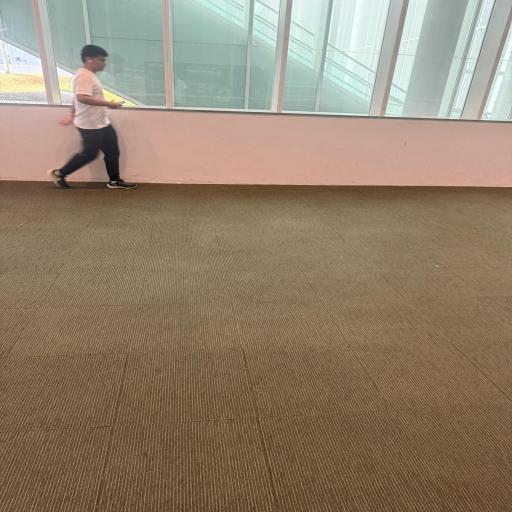person_right: (48, 44, 138, 189)
